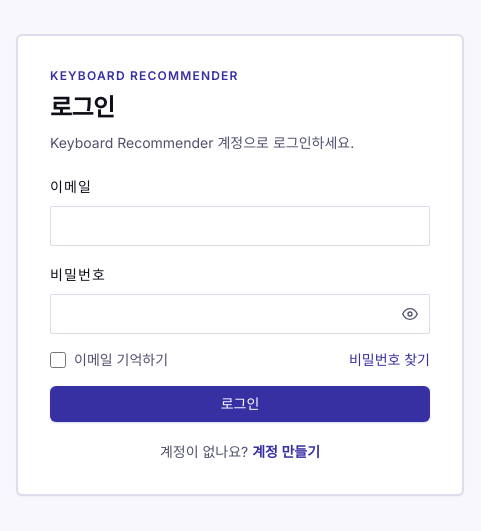
Test case: AuthPageClient login-only › shows login error on failed login
The image size is (481, 531).
In the field labelled "이메일": (240, 226) [50,206,430,246], type "a@b.com"
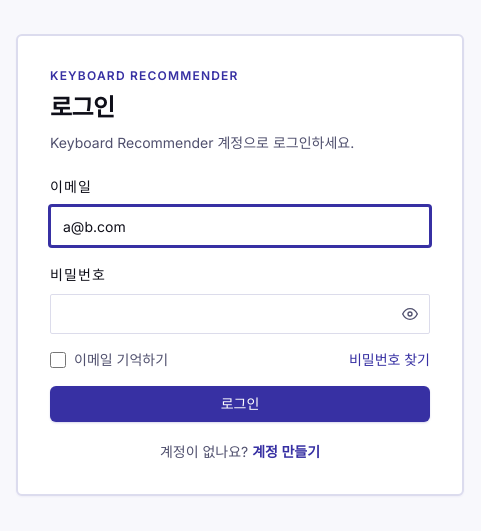
In the password field labelled "비밀번호": (240, 314) [50,294,430,334], type "Password1!"
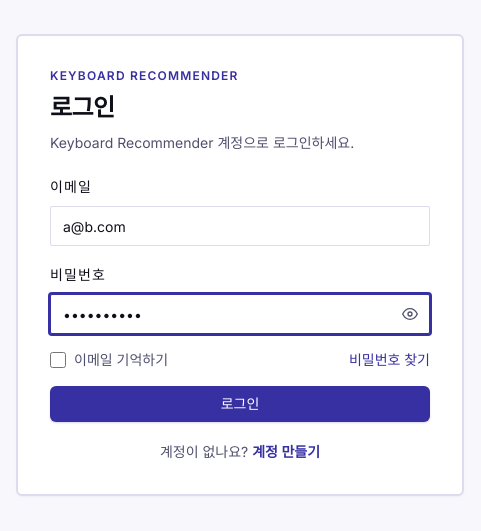
Click the button with test id "e2e-auth-submit": click(240, 404) [50,386,430,422]
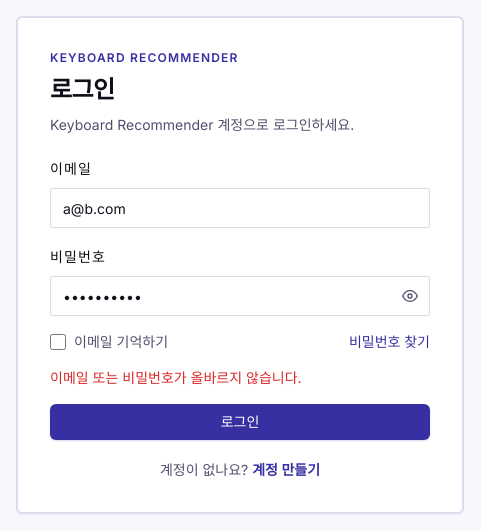
Result: the message with test id "e2e-auth-error" reads "이메일 또는 비밀번호가 올바르지 않습니다." at [50,369,302,386]
